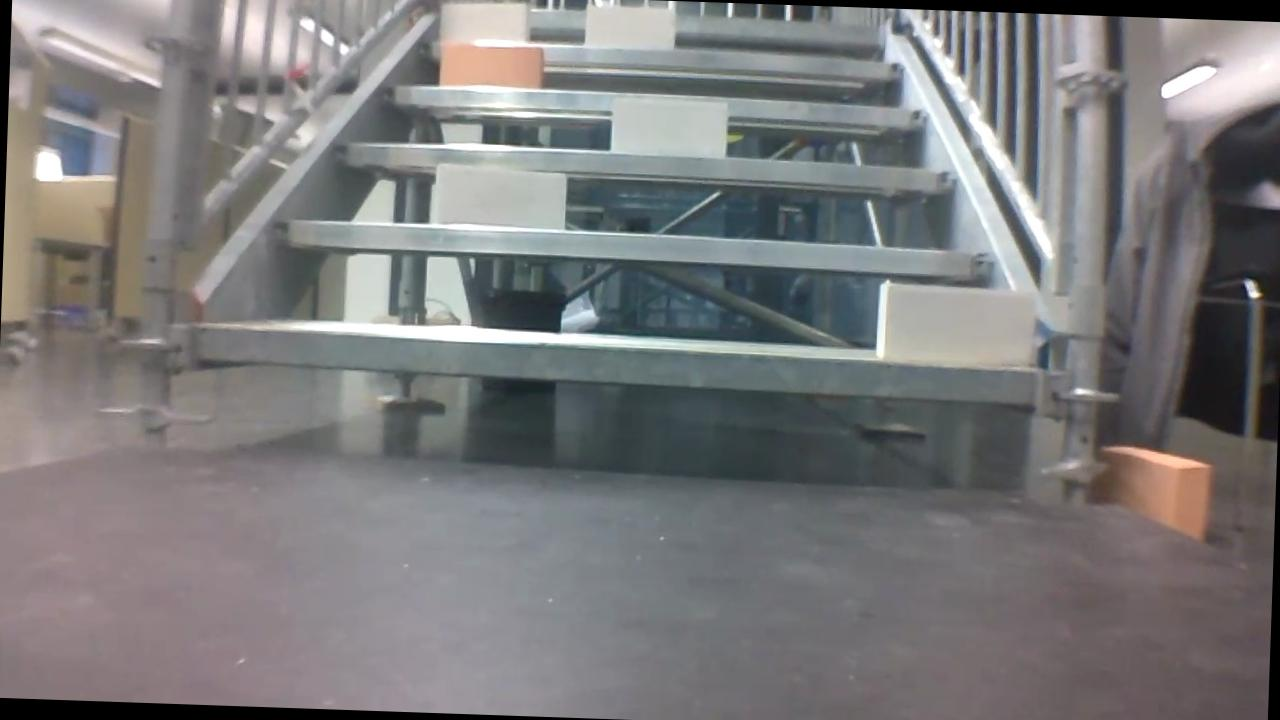brick: (876, 282, 1035, 362), (435, 162, 566, 230), (612, 98, 727, 155), (440, 43, 542, 87), (585, 4, 674, 47), (440, 1, 528, 41)
edge: (195, 319, 1040, 405), (276, 219, 995, 277), (334, 142, 964, 193), (383, 82, 928, 127), (416, 39, 906, 84), (418, 4, 883, 46)
